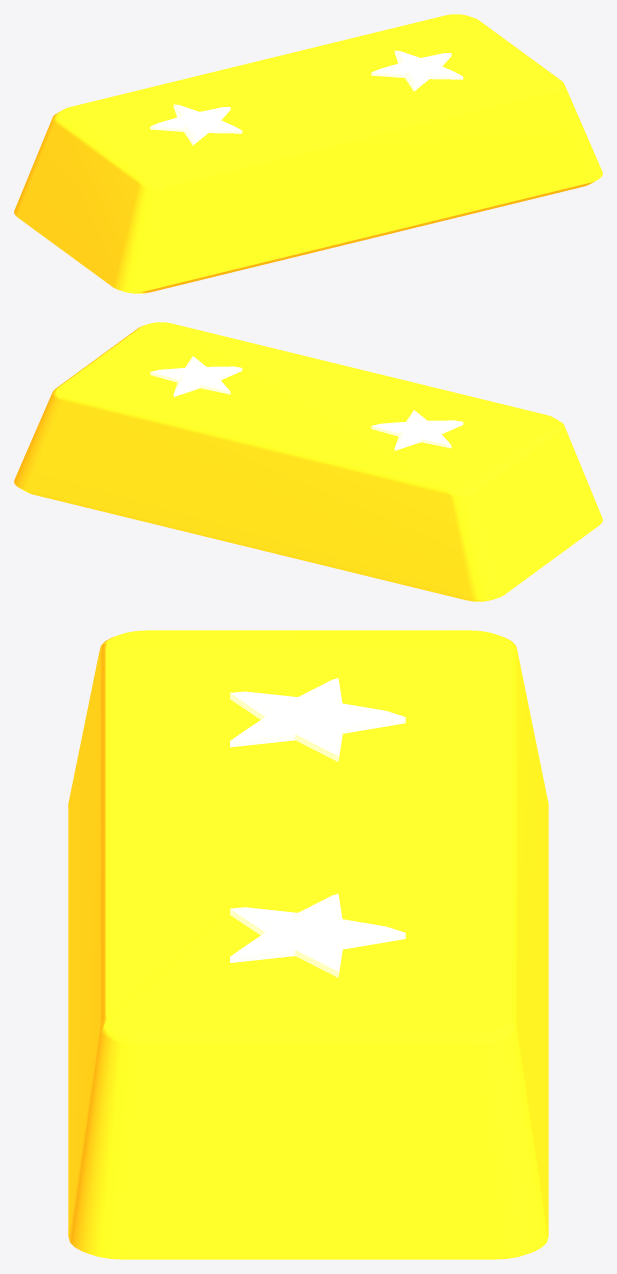
3 views of the same model, one above another, from view 1: azimuth 30°, elevation 25°; view 2: azimuth 150°, elevation 25°; view 3: azimuth 270°, elevation 25° (orthographic). The views are drawn at different scales.
Parts seen in each view (by area): view 1: Gold-whole; view 2: Gold-whole; view 3: Gold-whole.
Boxes of the visible parts, bbox=[...] form: Gold-whole: bbox=[14, 14, 602, 293]; Gold-whole: bbox=[14, 322, 602, 601]; Gold-whole: bbox=[68, 630, 548, 1259].
Bounding box in the file's own units: 1.54 × 0.3167 × 0.6583.
